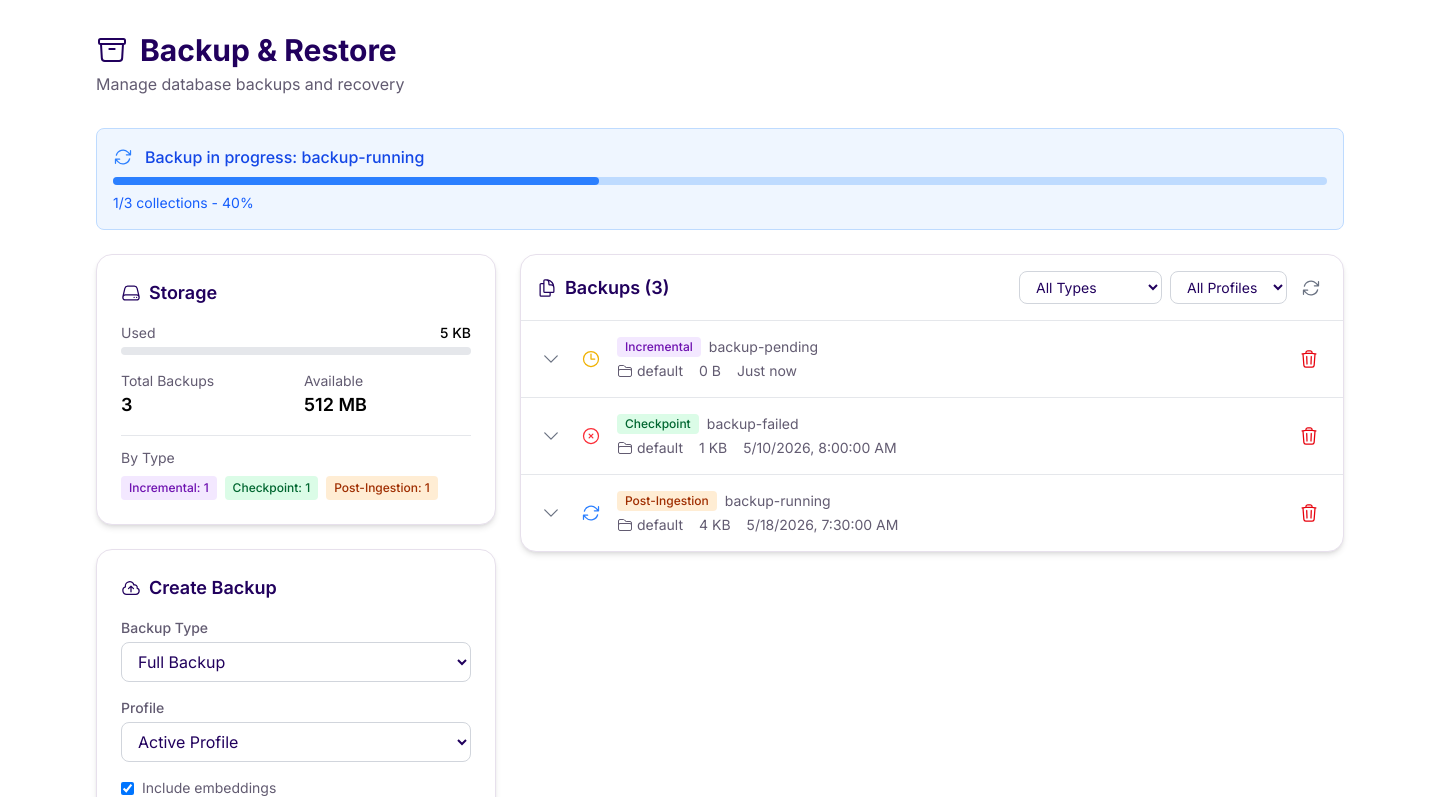
Scenario: large workflow page coverage smoke tests › renders backup status variations and handles filtering and failed actions
The width and height of the screenshot is (1440, 797).
Expected: the text "backup-pending" is shown, [709,337,818,357]
Click the button without text in the row of "1 KB" at (551, 436), box [537,422,565,450]
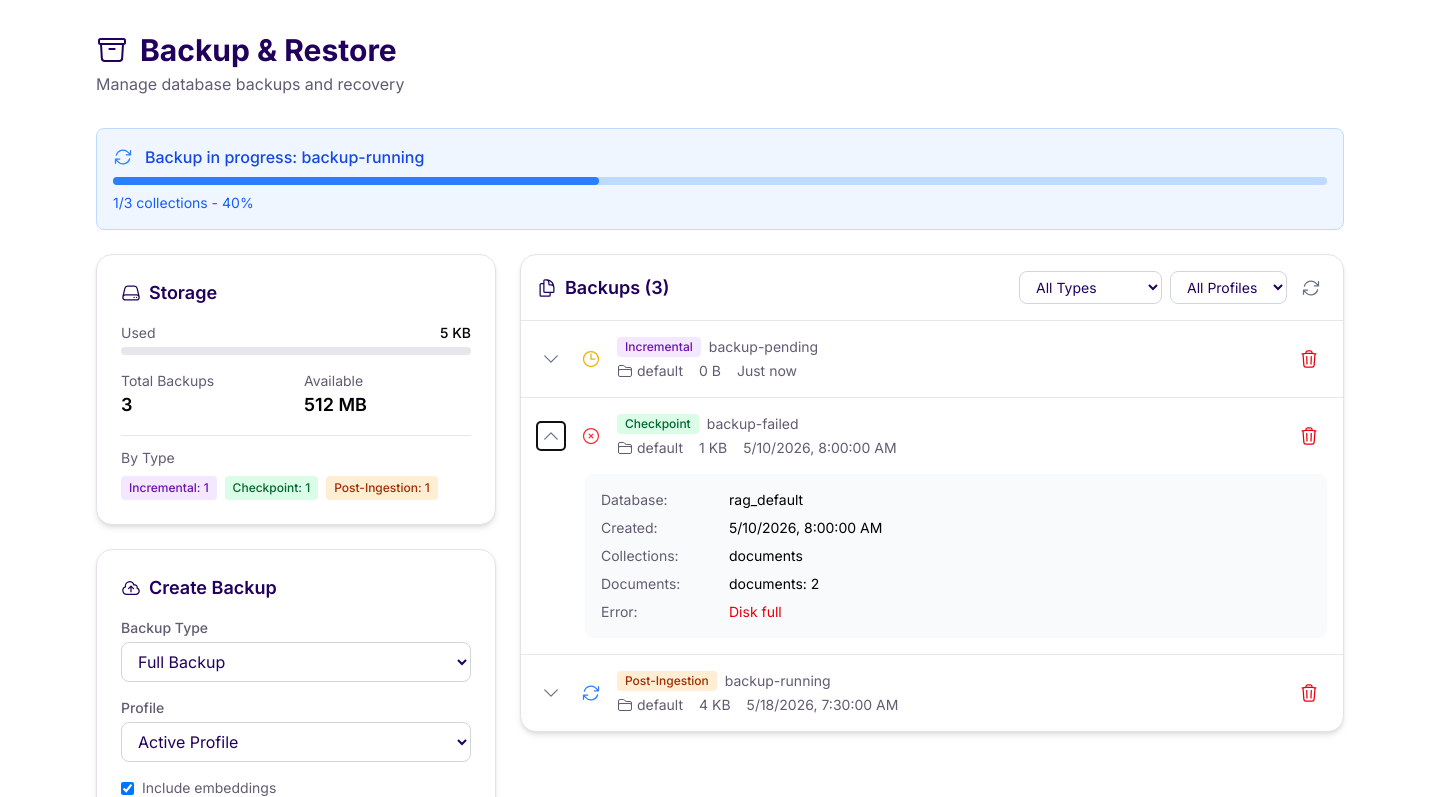
Result: the text "Disk full" is shown at [729,602,782,622]
Select "Checkpoint" in the 1st dropdown at (1090, 288), box [1019,271,1162,304]
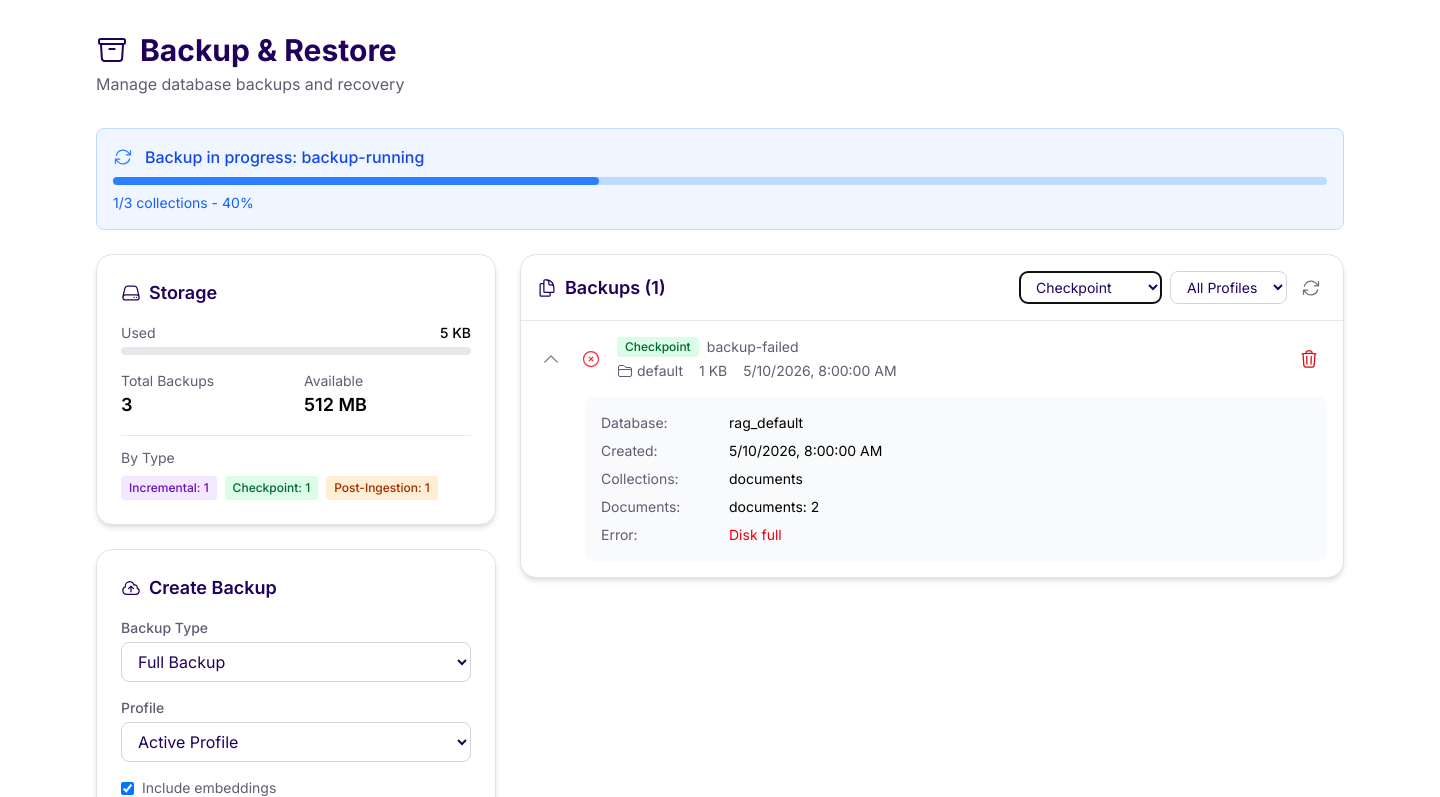
Click the button titled "Delete" at (1309, 359), box [1291,341,1327,377]
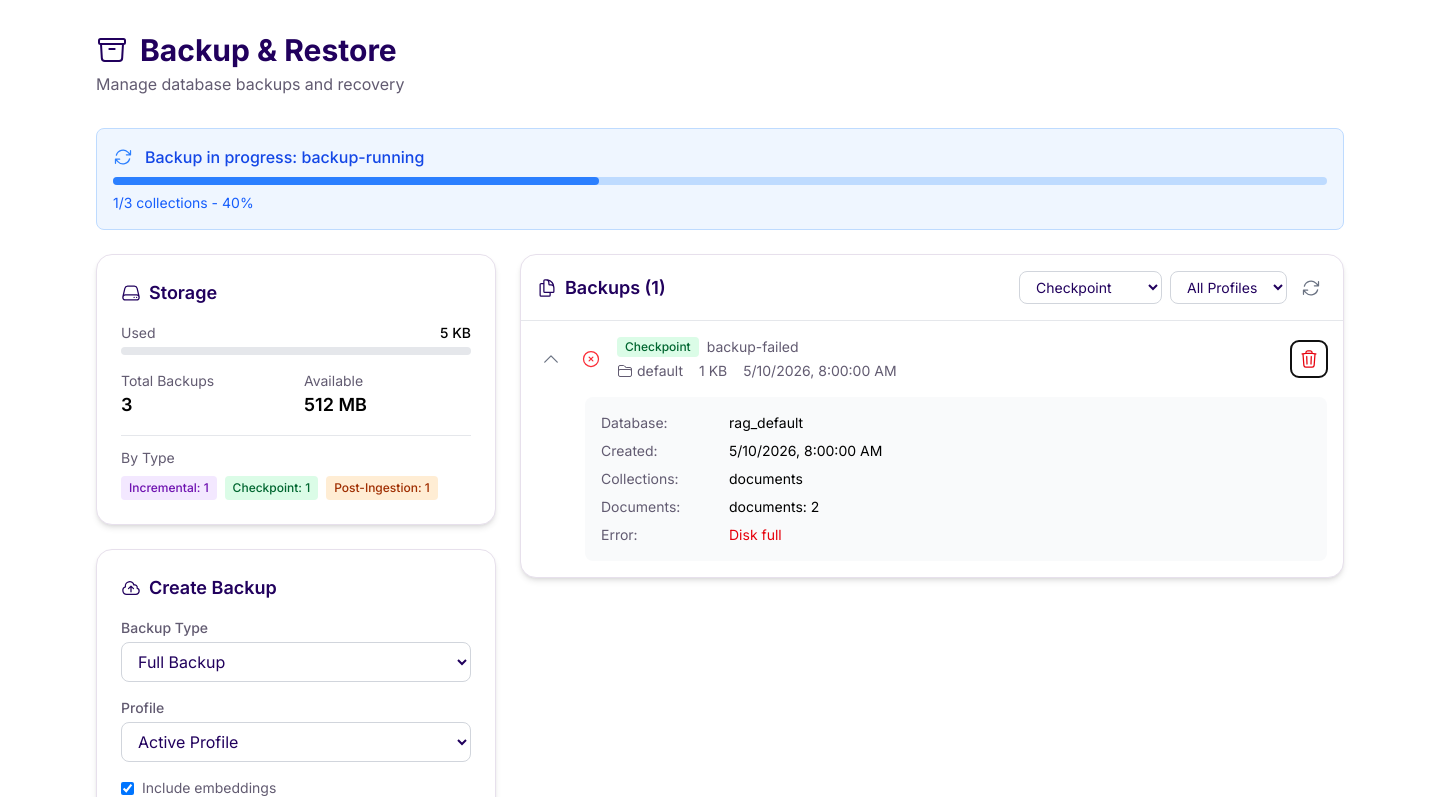
Click the button titled "Delete" at (1309, 359), box [1291,341,1327,377]
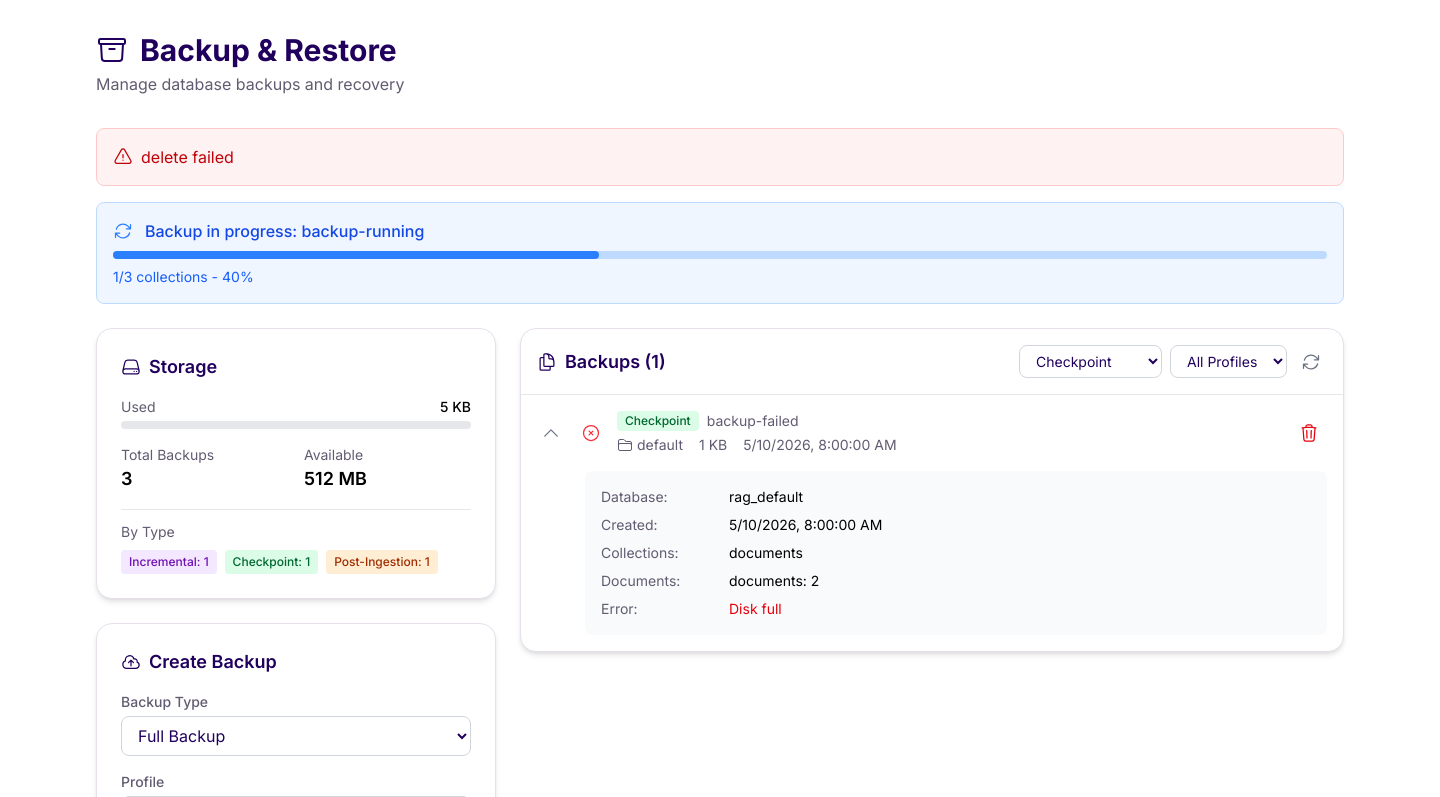
Result: the text "delete failed" is shown at [96,128,1344,186]
